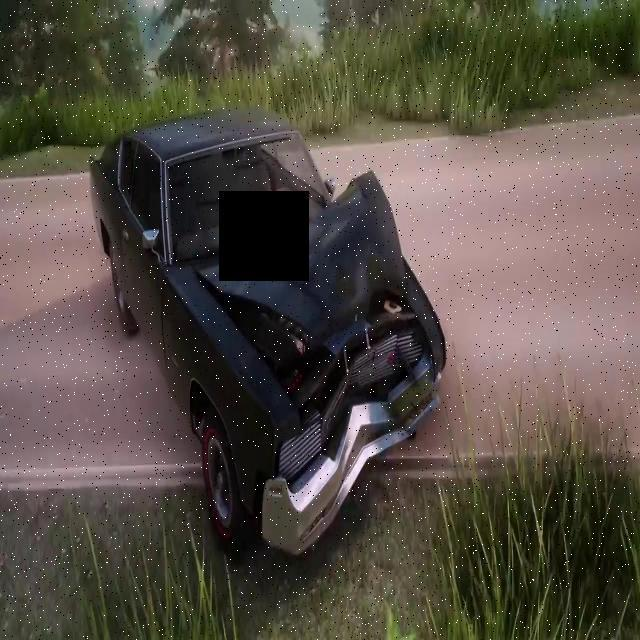moderate: (84, 105, 448, 573)
